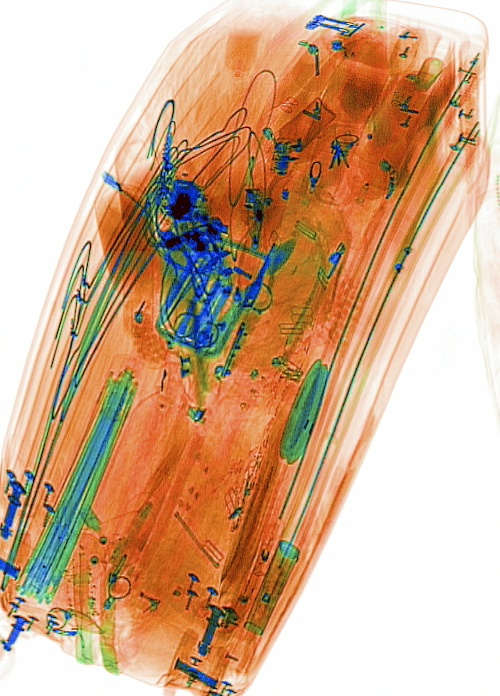scissors: (170, 253, 228, 351)
